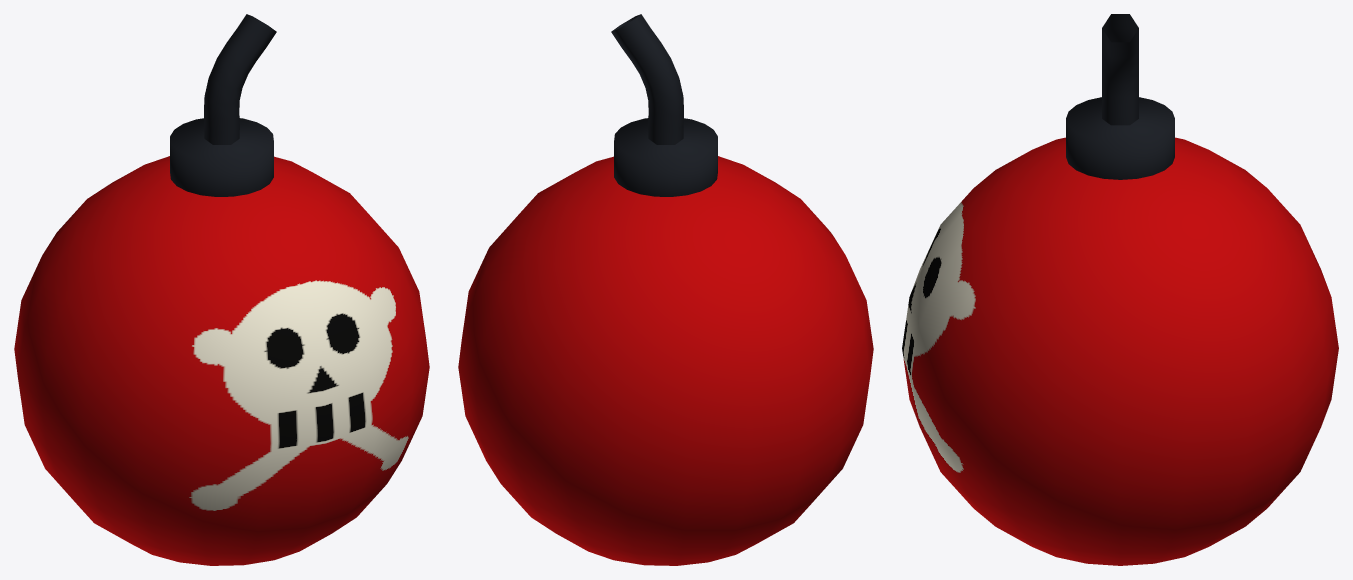
File: SM_MegaBomb.fbx
3 renders of one model, left to right at view 1: azimuth 30°, elevation 25°; view 2: azimuth 150°, elevation 25°; view 3: azimuth 270°, elevation 25°, orthographic. The views are drawn at different scales.
Parts seen in each view (by area): view 1: SM_MegaBomb; view 2: SM_MegaBomb; view 3: SM_MegaBomb.
Boxes of the visible parts, x1=… form: SM_MegaBomb: x1=14, y1=14, x2=429, y2=565; SM_MegaBomb: x1=458, y1=14, x2=873, y2=565; SM_MegaBomb: x1=902, y1=14, x2=1338, y2=565.
Size of the model in its own units: 2 by 2 by 2.76.
2 materials, 1 textured.
